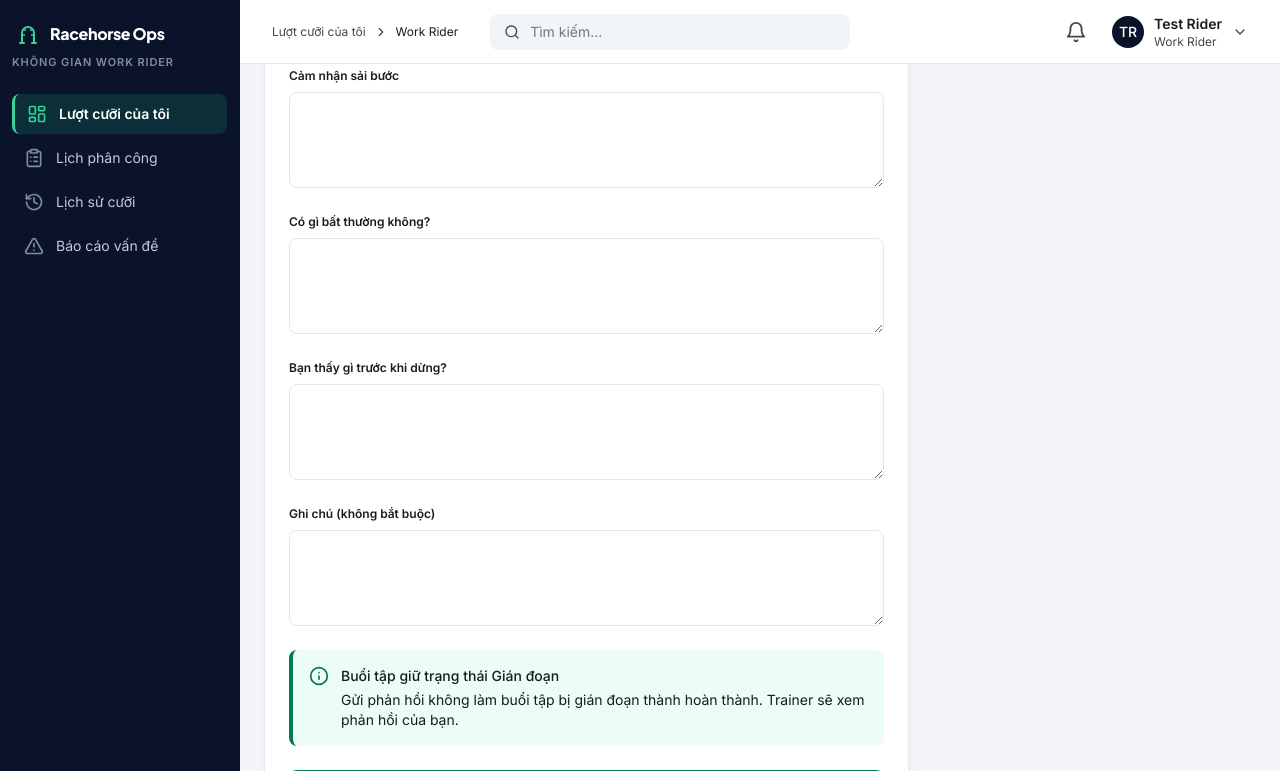
Test: keeps interrupted feedback input for retry, submits only approved fields and prevents pending duplicates
(page scrolled)
Type "Breathing hard" into the text box labelled "Bạn thấy gì trước khi dừng?" at (587,432), box [289,384,884,480]
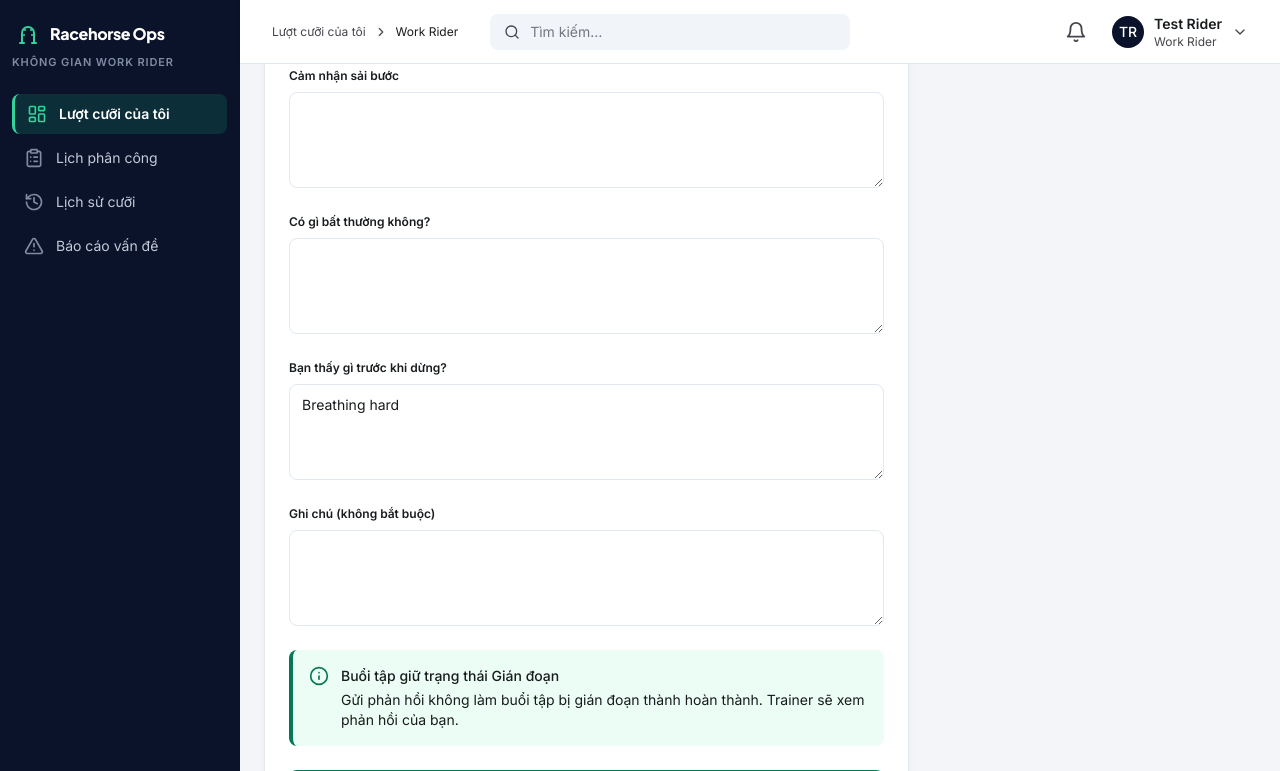
Type "  Settled slowly  " into the text box labelled "Ghi chú (không bắt buộc)" at (587,578), box [289,530,884,626]
(page scrolled)
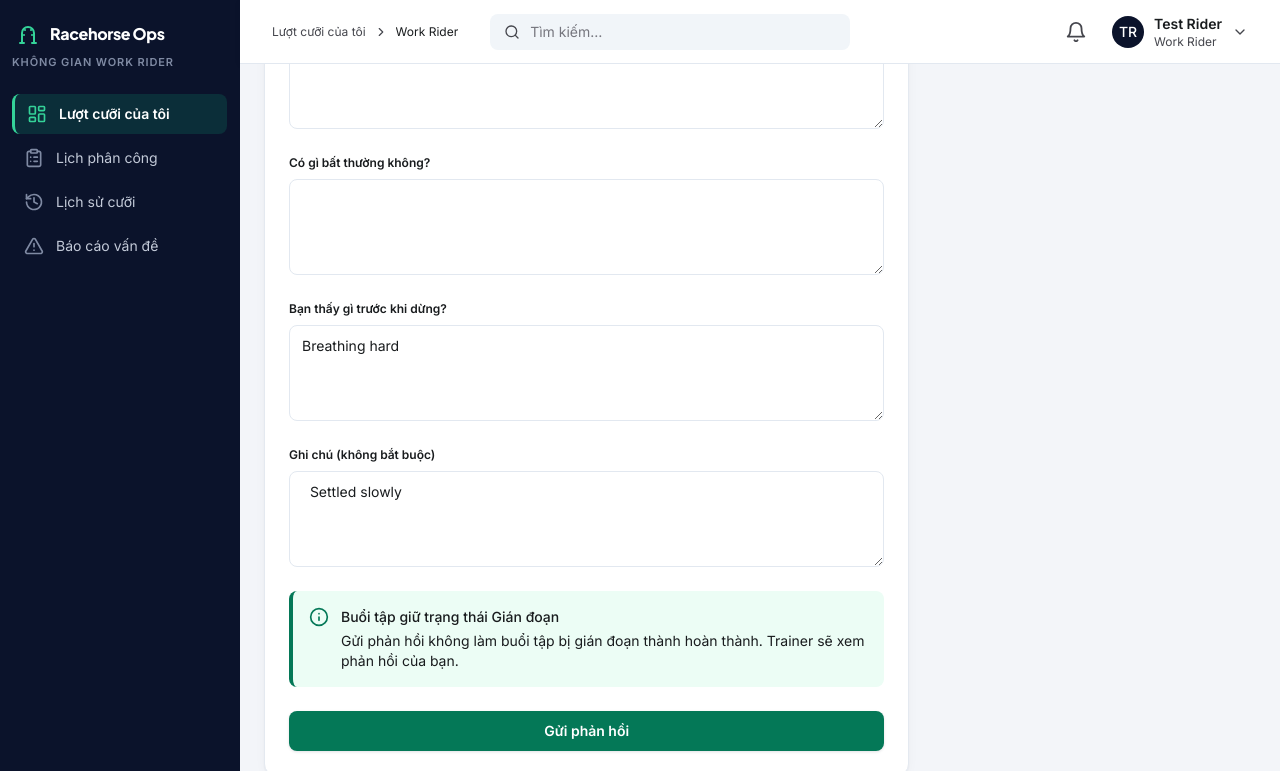
Click the button "Gửi phản hồi" at (587,731), box [289,711,884,751]
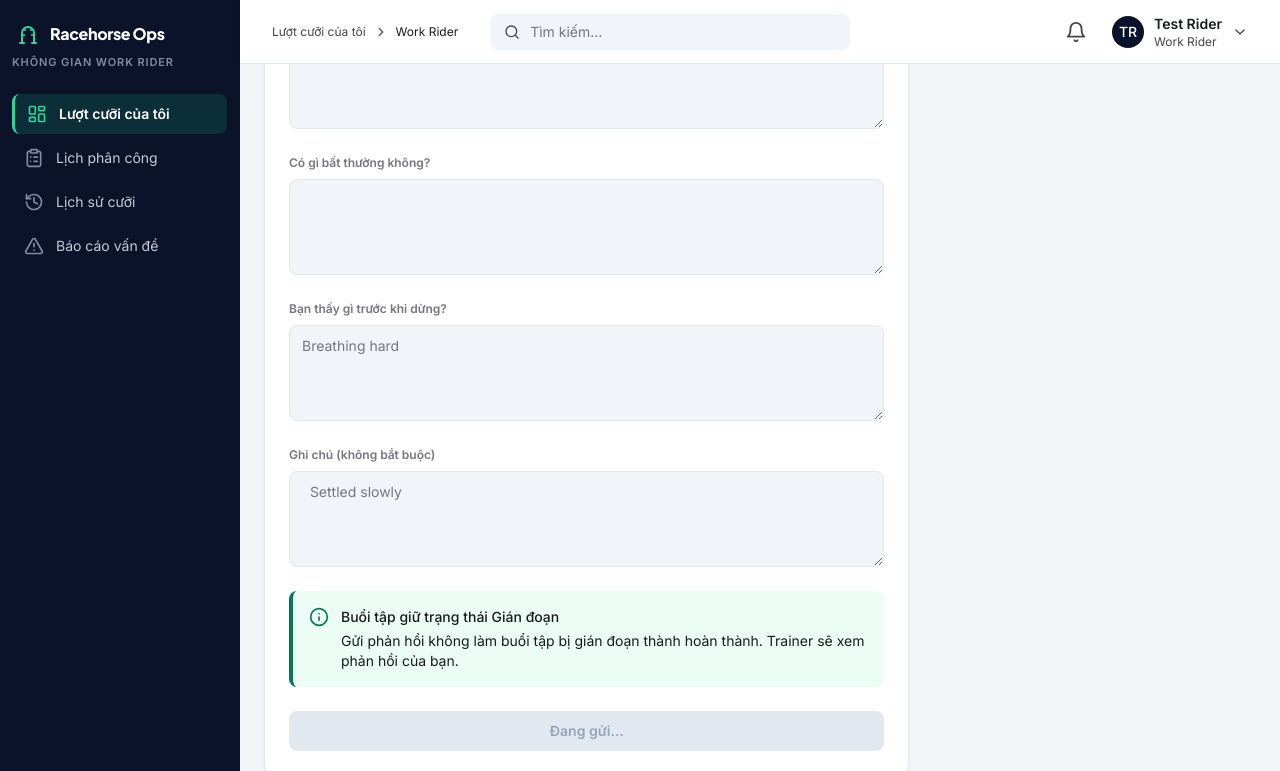
Click the button named "Gửi phản hồi" at (587,731), box [289,711,884,751]
(page scrolled)
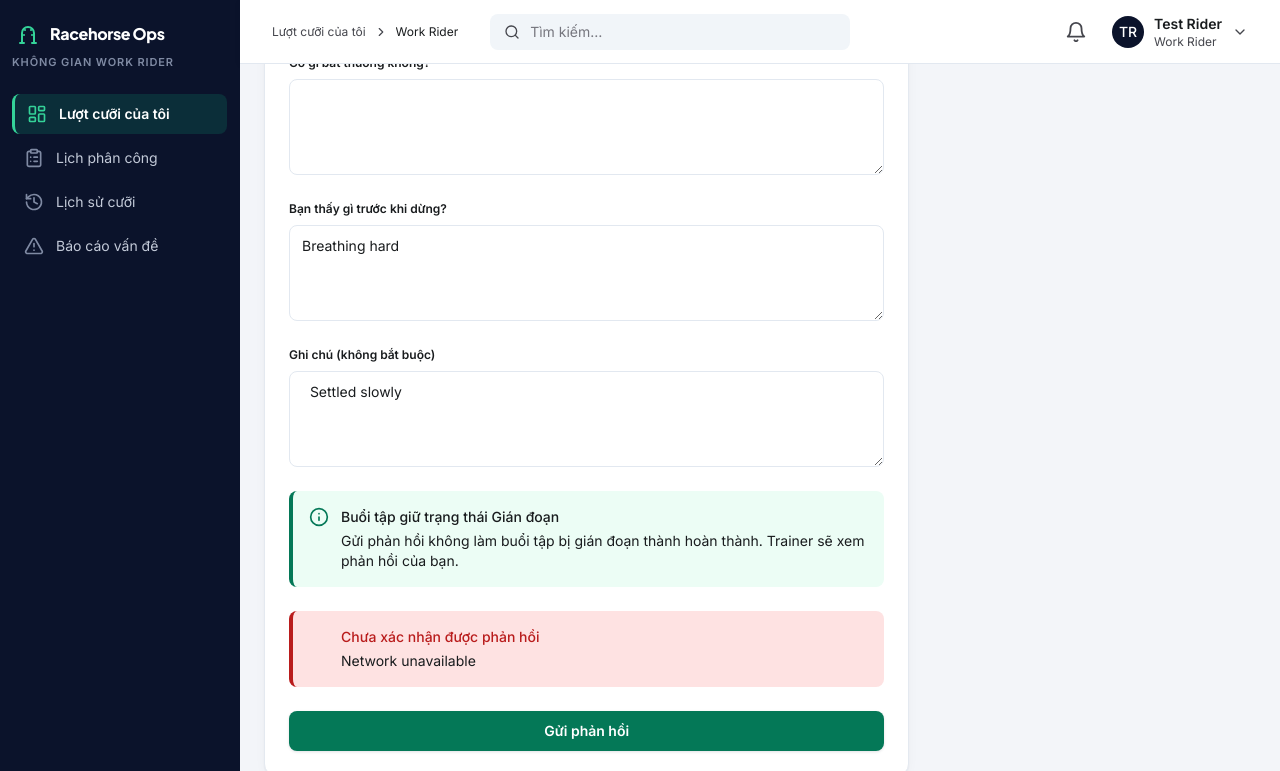
expect the text "Network unavailable" is shown: met, box [341,652,476,669]
Click the button "Gửi phản hồi" at (587,731), box [289,711,884,751]
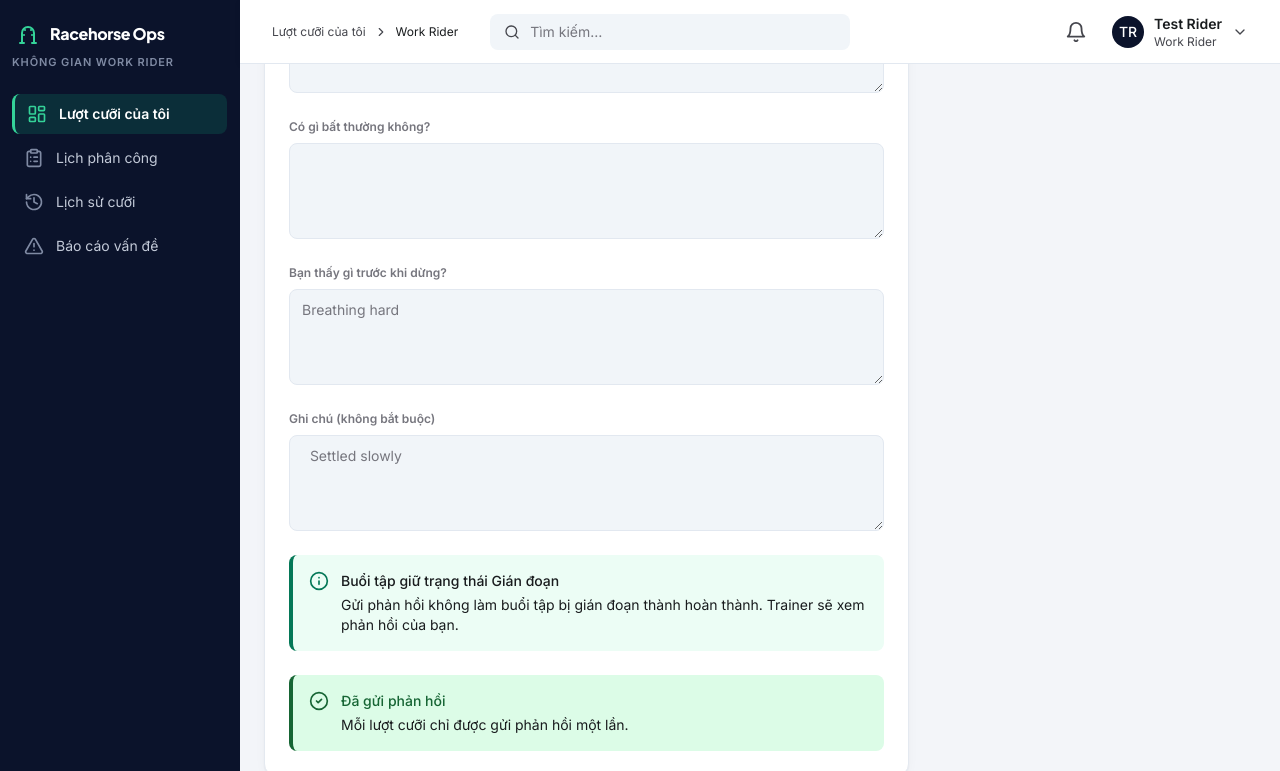
expect the text "Buổi tập giữ trạng thái Gián đoạn" is shown: met, box [341,572,559,589]
expect the text "Đã gửi phản hồi" is shown: met, box [341,692,446,709]
